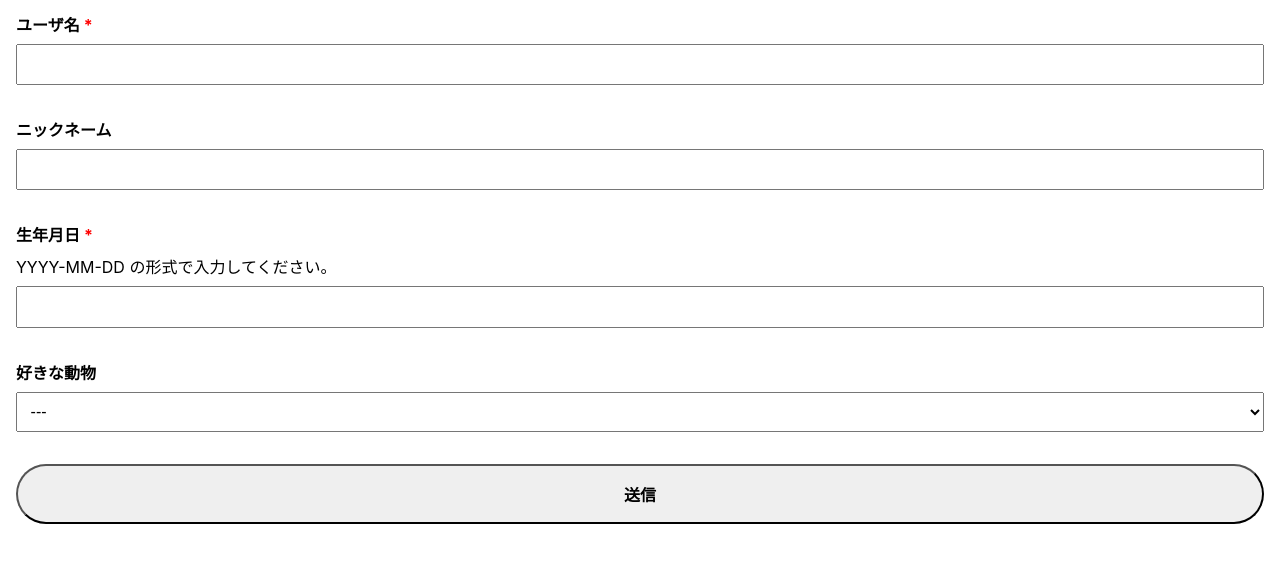
Test: RegisterForm › 生年月日のバリデーション › 入力した値が YYYY-MM-DD のフォーマットであること › YYYY-MM-DD 以外のフォーマットは送信できない
Type "たろう" into the field labelled "ユーザ名". click: (640, 65)
box: [16, 44, 1264, 85]
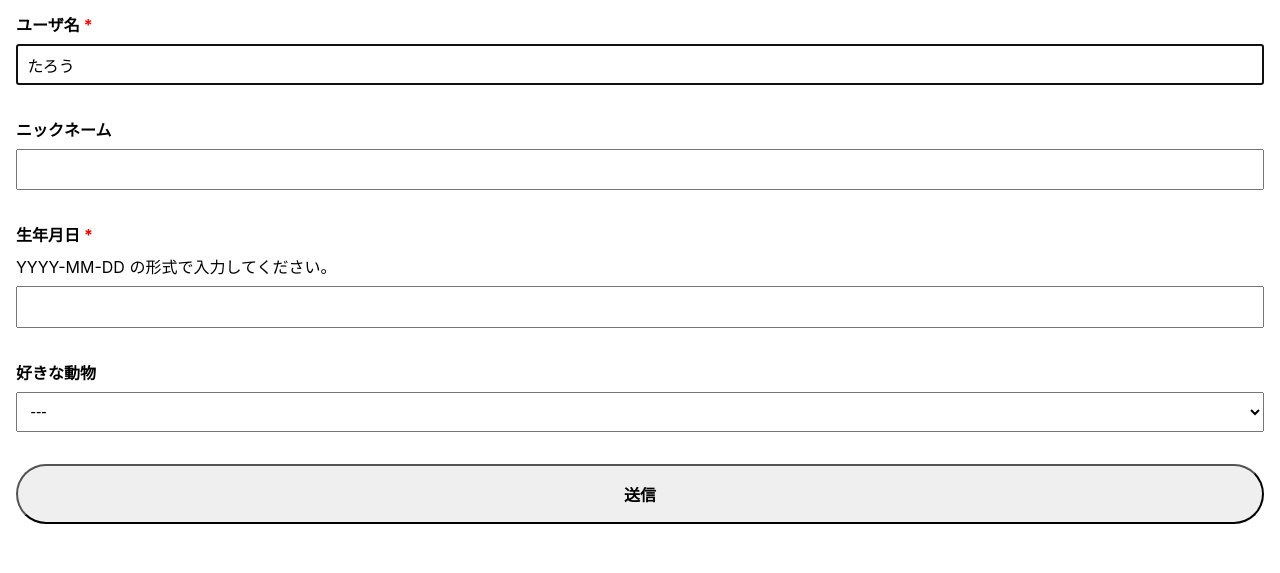
Type "たろちゃん" into the field labelled "ニックネーム". click: (640, 170)
box: [16, 149, 1264, 190]
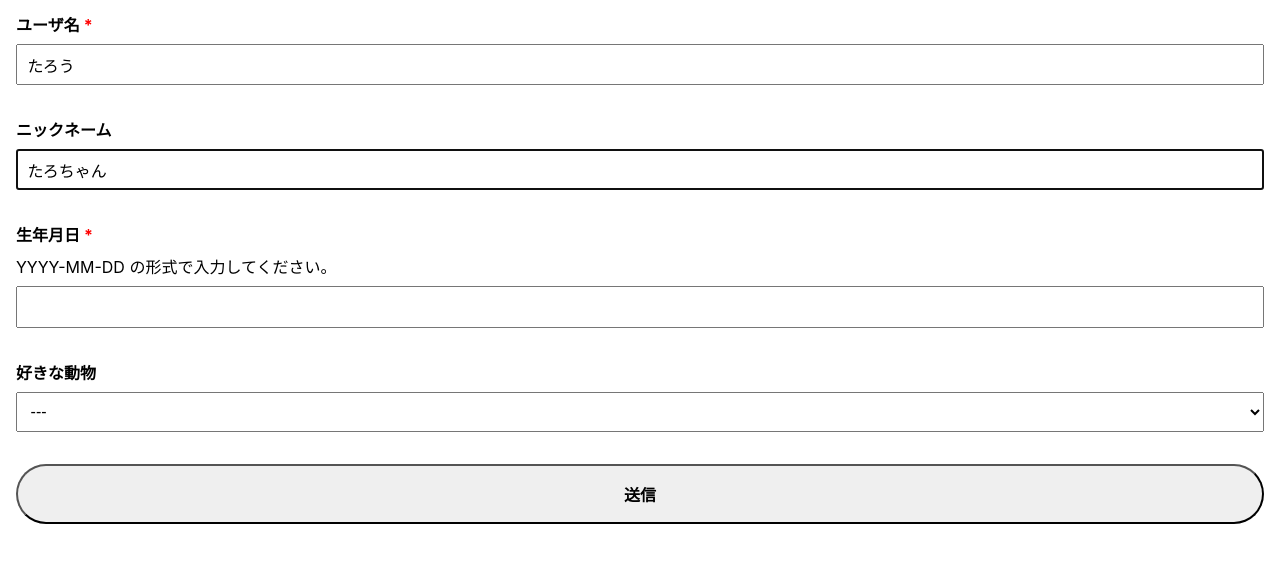
Type "1996/06/10" into the field labelled "生年月日". click: (640, 307)
box: [16, 286, 1264, 328]
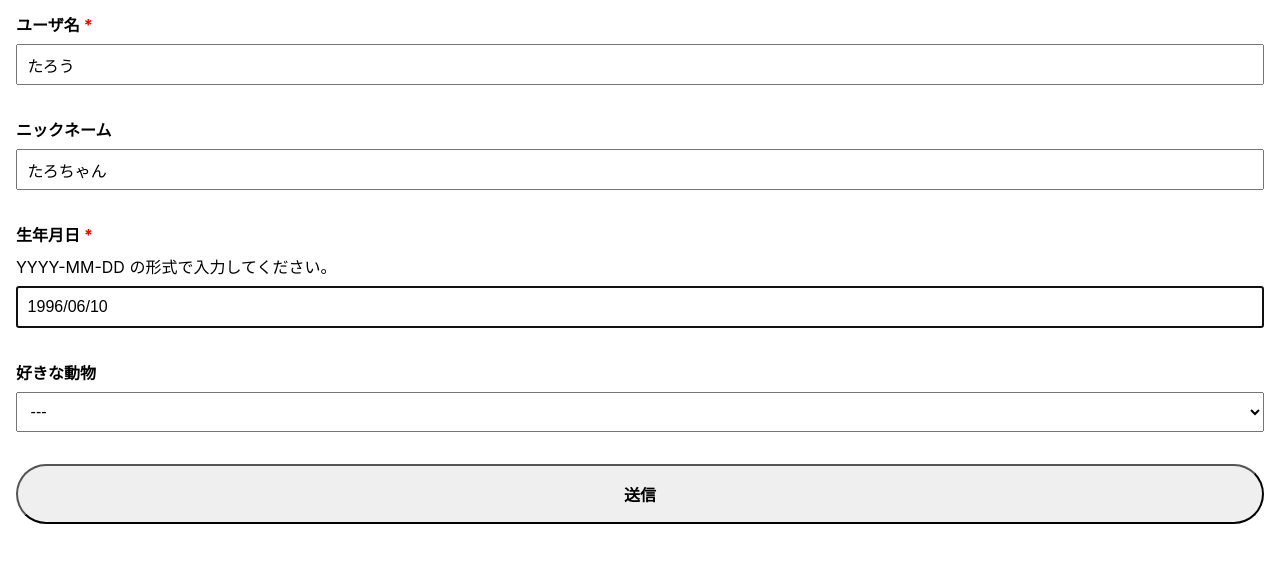
Select "イヌ" in the dropdown labelled "好きな動物". click: (640, 412)
box: [16, 392, 1264, 432]
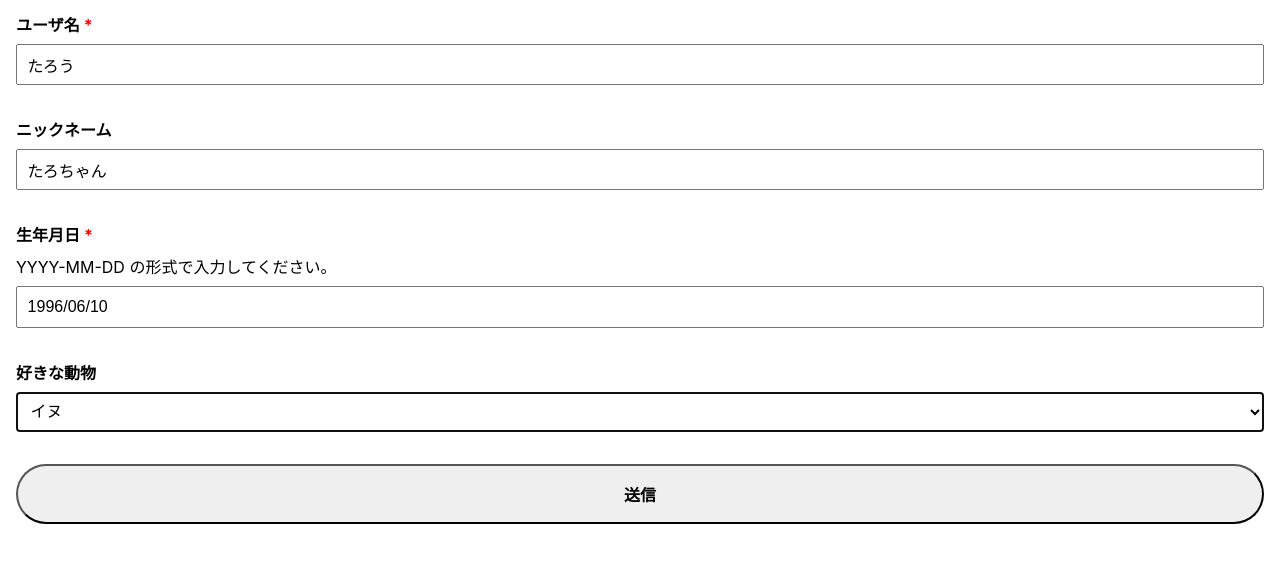
Click the button "送信". click: (640, 494)
box: [16, 464, 1264, 524]
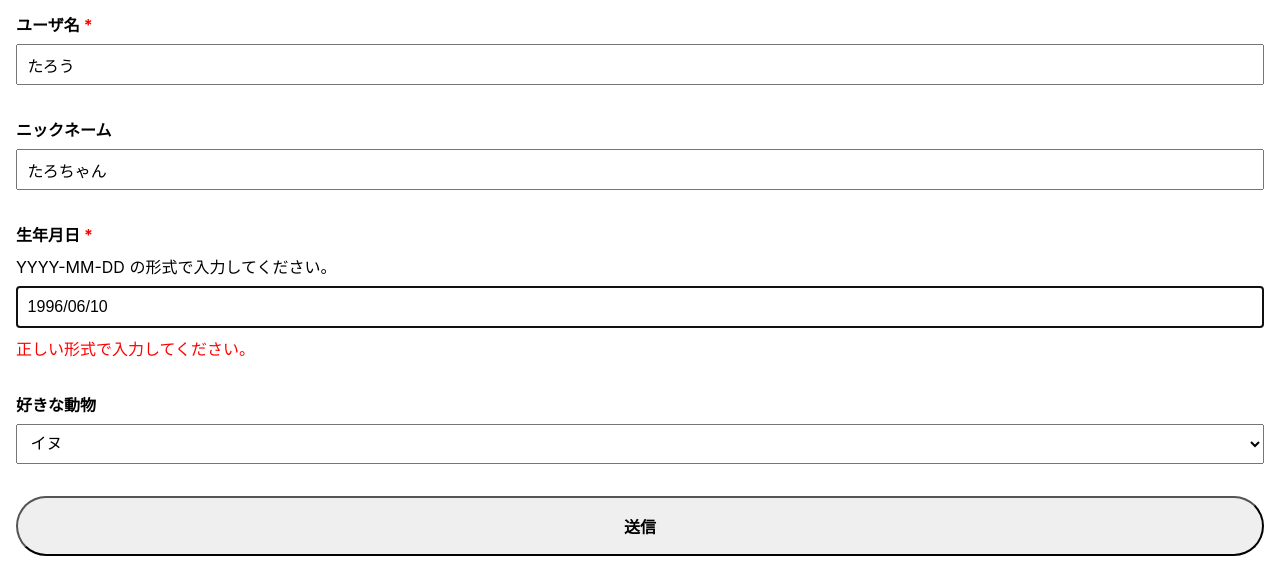
Check: the text "正しい形式で入力してください。" is shown, box [16, 339, 255, 359]
